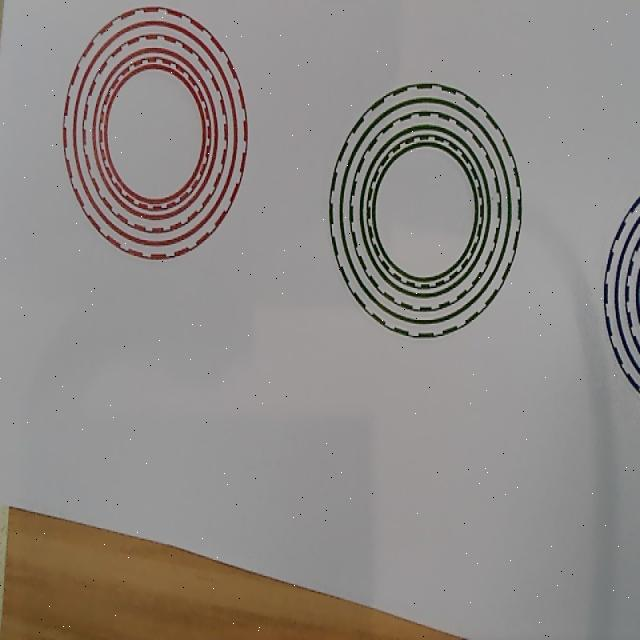g: (329, 83, 523, 340)
red-green-blue: (61, 7, 248, 260)
